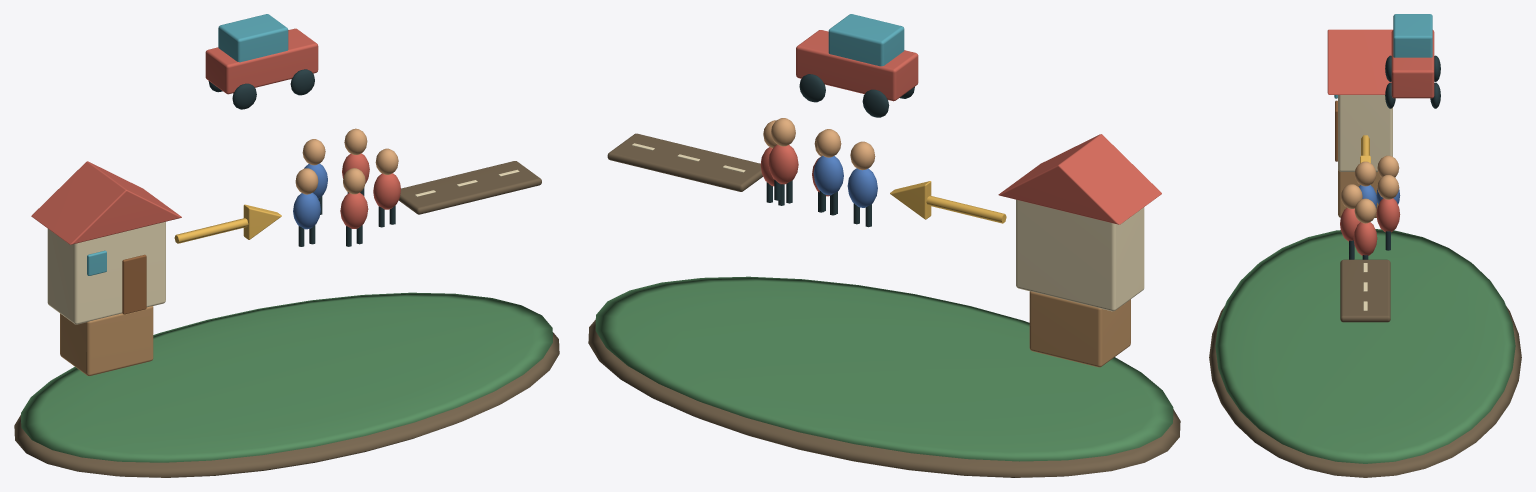
Rendered from complete-third-high-speed-public-road.glb.
3 views of the same model, side by side, from view 1: azimuth 30°, elevation 25°; view 2: azimuth 150°, elevation 25°; view 3: azimuth 270°, elevation 25° (orthographic). The views are drawn at different scales.
Parts seen in each view (by area): view 1: complete-third-high-speed-public-road_surface_01, complete-third-high-speed-public-road_surface_00, complete-third-high-speed-public-road_surface_03, complete-third-high-speed-public-road_surface_02, complete-third-high-speed-public-road_surface_06, complete-third-high-speed-public-road_surface_05, complete-third-high-speed-public-road_surface_08, complete-third-high-speed-public-road_surface_10, complete-third-high-speed-public-road_surface_07, complete-third-high-speed-public-road_surface_04, complete-third-high-speed-public-road_surface_09; view 2: complete-third-high-speed-public-road_surface_01, complete-third-high-speed-public-road_surface_00, complete-third-high-speed-public-road_surface_03, complete-third-high-speed-public-road_surface_02, complete-third-high-speed-public-road_surface_06, complete-third-high-speed-public-road_surface_05, complete-third-high-speed-public-road_surface_10, complete-third-high-speed-public-road_surface_08, complete-third-high-speed-public-road_surface_09, complete-third-high-speed-public-road_surface_07; view 3: complete-third-high-speed-public-road_surface_01, complete-third-high-speed-public-road_surface_00, complete-third-high-speed-public-road_surface_03, complete-third-high-speed-public-road_surface_02, complete-third-high-speed-public-road_surface_08, complete-third-high-speed-public-road_surface_05, complete-third-high-speed-public-road_surface_10, complete-third-high-speed-public-road_surface_06, complete-third-high-speed-public-road_surface_09.
Boxes of the visible parts, bbox=[...] form: complete-third-high-speed-public-road_surface_01: bbox=[21, 292, 552, 462]; complete-third-high-speed-public-road_surface_00: bbox=[14, 161, 559, 477]; complete-third-high-speed-public-road_surface_03: bbox=[31, 28, 400, 244]; complete-third-high-speed-public-road_surface_02: bbox=[47, 169, 519, 324]; complete-third-high-speed-public-road_surface_06: bbox=[60, 306, 153, 376]; complete-third-high-speed-public-road_surface_05: bbox=[87, 14, 288, 275]; complete-third-high-speed-public-road_surface_08: bbox=[295, 128, 398, 194]; complete-third-high-speed-public-road_surface_10: bbox=[208, 69, 395, 246]; complete-third-high-speed-public-road_surface_07: bbox=[174, 204, 281, 243]; complete-third-high-speed-public-road_surface_04: bbox=[122, 254, 146, 314]; complete-third-high-speed-public-road_surface_09: bbox=[293, 163, 327, 229]; complete-third-high-speed-public-road_surface_01: bbox=[595, 276, 1173, 461]; complete-third-high-speed-public-road_surface_00: bbox=[588, 133, 1180, 477]; complete-third-high-speed-public-road_surface_03: bbox=[760, 30, 1161, 224]; complete-third-high-speed-public-road_surface_02: bbox=[632, 143, 1144, 311]; complete-third-high-speed-public-road_surface_06: bbox=[1029, 291, 1130, 367]; complete-third-high-speed-public-road_surface_05: bbox=[828, 14, 904, 66]; complete-third-high-speed-public-road_surface_10: bbox=[766, 74, 914, 227]; complete-third-high-speed-public-road_surface_08: bbox=[763, 118, 875, 170]; complete-third-high-speed-public-road_surface_09: bbox=[813, 155, 877, 207]; complete-third-high-speed-public-road_surface_07: bbox=[890, 181, 1006, 223]; complete-third-high-speed-public-road_surface_01: bbox=[1215, 229, 1515, 463]; complete-third-high-speed-public-road_surface_00: bbox=[1209, 259, 1521, 477]; complete-third-high-speed-public-road_surface_03: bbox=[1327, 29, 1434, 255]; complete-third-high-speed-public-road_surface_02: bbox=[1338, 95, 1392, 310]; complete-third-high-speed-public-road_surface_08: bbox=[1341, 155, 1399, 223]; complete-third-high-speed-public-road_surface_05: bbox=[1334, 14, 1432, 98]; complete-third-high-speed-public-road_surface_10: bbox=[1349, 55, 1440, 259]; complete-third-high-speed-public-road_surface_06: bbox=[1338, 169, 1381, 217]; complete-third-high-speed-public-road_surface_09: bbox=[1358, 185, 1400, 208].
Bounding box in the file's own units: 4.56 × 3.03 × 2.5.
